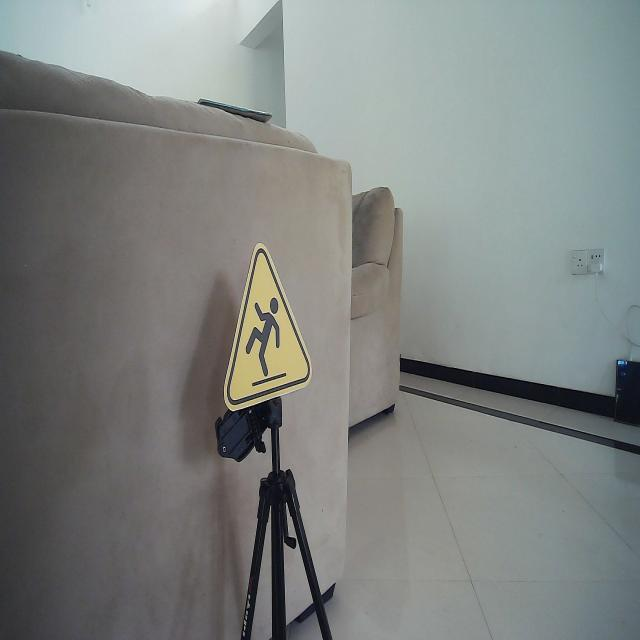slippery_sign: (222, 240, 314, 416)
